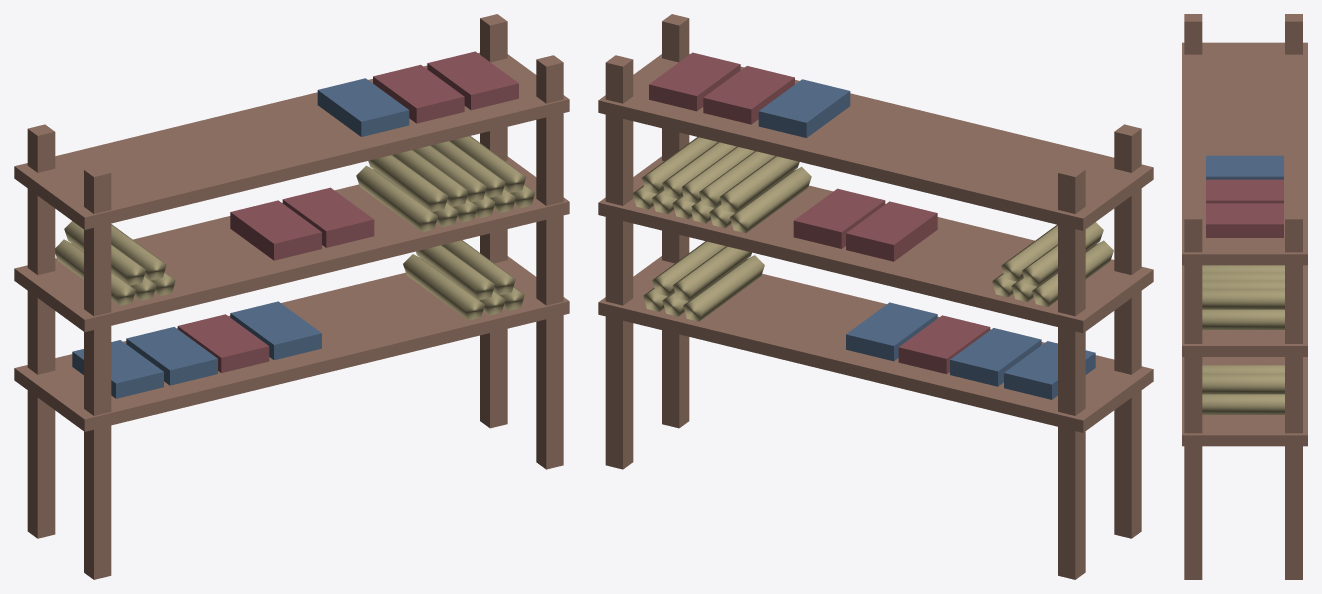
File: seyf_1.gltf
3 renders of one model, left to right at view 1: azimuth 30°, elevation 25°; view 2: azimuth 150°, elevation 25°; view 3: azimuth 270°, elevation 25°, orthographic. The views are drawn at different scales.
Visible parts, largest first — view 1: Cube.002, Cube, Cube.001, Cube.003, Cube.004, Cube.006, Cube.005, Cube.011, Cube.015, Cube.014, Cube.013, Cube.012 (+16 smaller); view 2: Cube.002, Cube, Cube.001, Cube.005, Cube.006, Cube.003, Cube.004, Cube.011, Cube.015, Cube.014, Cube.013, Cube.012 (+16 smaller); view 3: Cube.002, Cube.004, Cube.005, Cube, Cube.001, Cube.013, Cube.014, Cube.015, Cylinder, Cylinder.004, Cylinder.010, Cylinder.014 (+6 smaller).
Part boxes in pixels (box(x1,y1,x2,y2)): Cube.002: box(14, 52, 569, 229); Cube: box(14, 256, 569, 431); Cube.001: box(14, 156, 569, 332); Cube.003: box(84, 165, 111, 579); Cube.004: box(536, 55, 563, 469); Cube.006: box(27, 124, 55, 538); Cube.005: box(480, 14, 507, 428); Cube.011: box(230, 200, 321, 260); Cube.015: box(317, 78, 409, 136); Cube.014: box(373, 64, 464, 123); Cube.013: box(427, 51, 518, 110); Cube.012: box(282, 187, 374, 247); Cube.002: box(598, 54, 1153, 230); Cube: box(598, 256, 1153, 432); Cube.001: box(598, 156, 1153, 333); Cube.005: box(605, 55, 633, 469); Cube.006: box(1058, 165, 1085, 579); Cube.003: box(1114, 124, 1141, 538); Cube.004: box(662, 14, 689, 428); Cube.011: box(846, 201, 937, 261); Cube.015: box(758, 79, 850, 137); Cube.014: box(703, 66, 794, 124); Cube.013: box(649, 52, 740, 111); Cube.012: box(793, 188, 885, 248); Cube.002: box(1182, 42, 1307, 265); Cube.004: box(1184, 211, 1202, 579); Cube.005: box(1285, 211, 1302, 579); Cube: box(1182, 357, 1307, 446); Cube.001: box(1182, 265, 1307, 356); Cube.013: box(1206, 203, 1283, 237); Cube.014: box(1206, 179, 1283, 203); Cube.015: box(1206, 155, 1283, 179); Cylinder: box(1202, 394, 1284, 414); Cylinder.004: box(1202, 374, 1284, 394); Cylinder.010: box(1202, 309, 1284, 329); Cylinder.014: box(1202, 289, 1284, 309).
Bounding box in the file's own units: 7.97 × 6.33 × 2.
